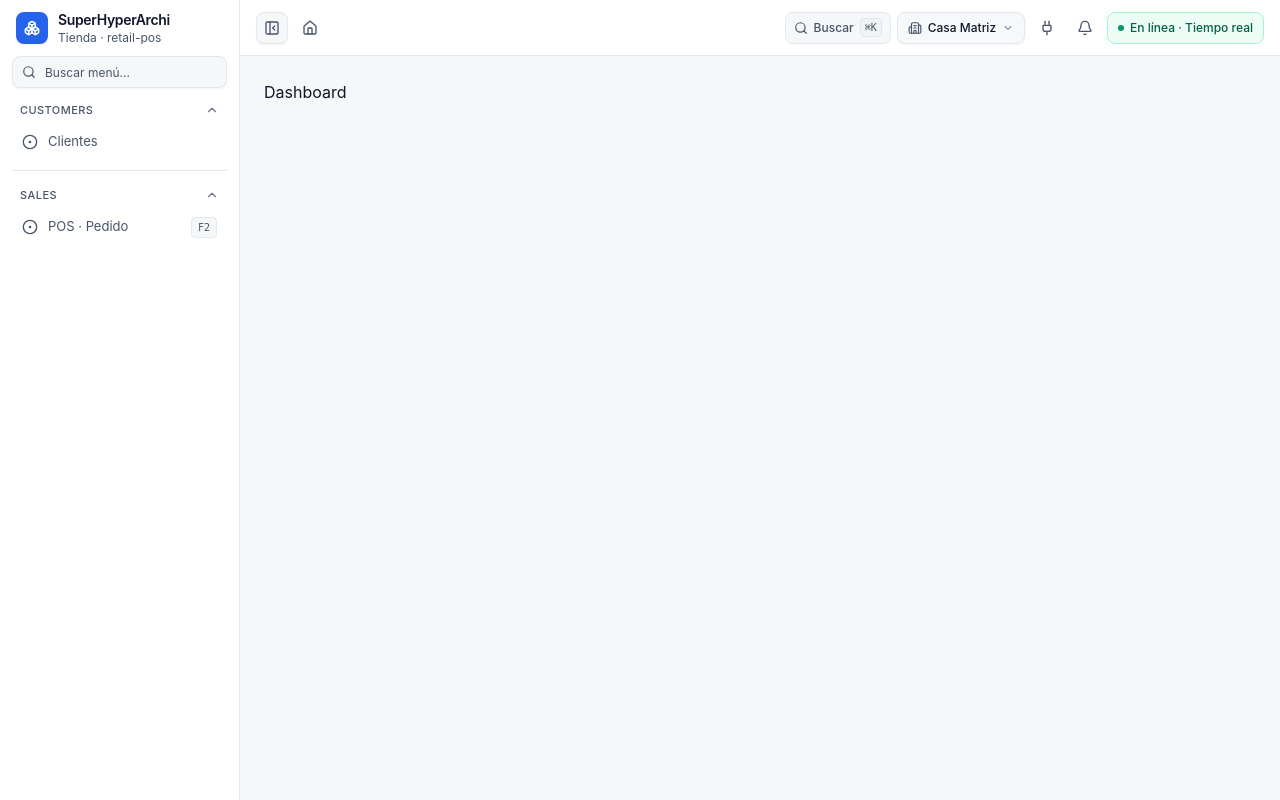
Test: @shac/ui smoke tests › groups ShacAppShell nav items into collapsible sections and filters them via sidebar search
Expected: the text "CUSTOMERS" is shown, [20,102,93,118]
Expected: the text "SALES" is shown, [20,187,57,203]
Type "POS" into the search field with placeholder "Buscar menú...".
click(120, 72); type("POS")  # box [12,56,227,88]
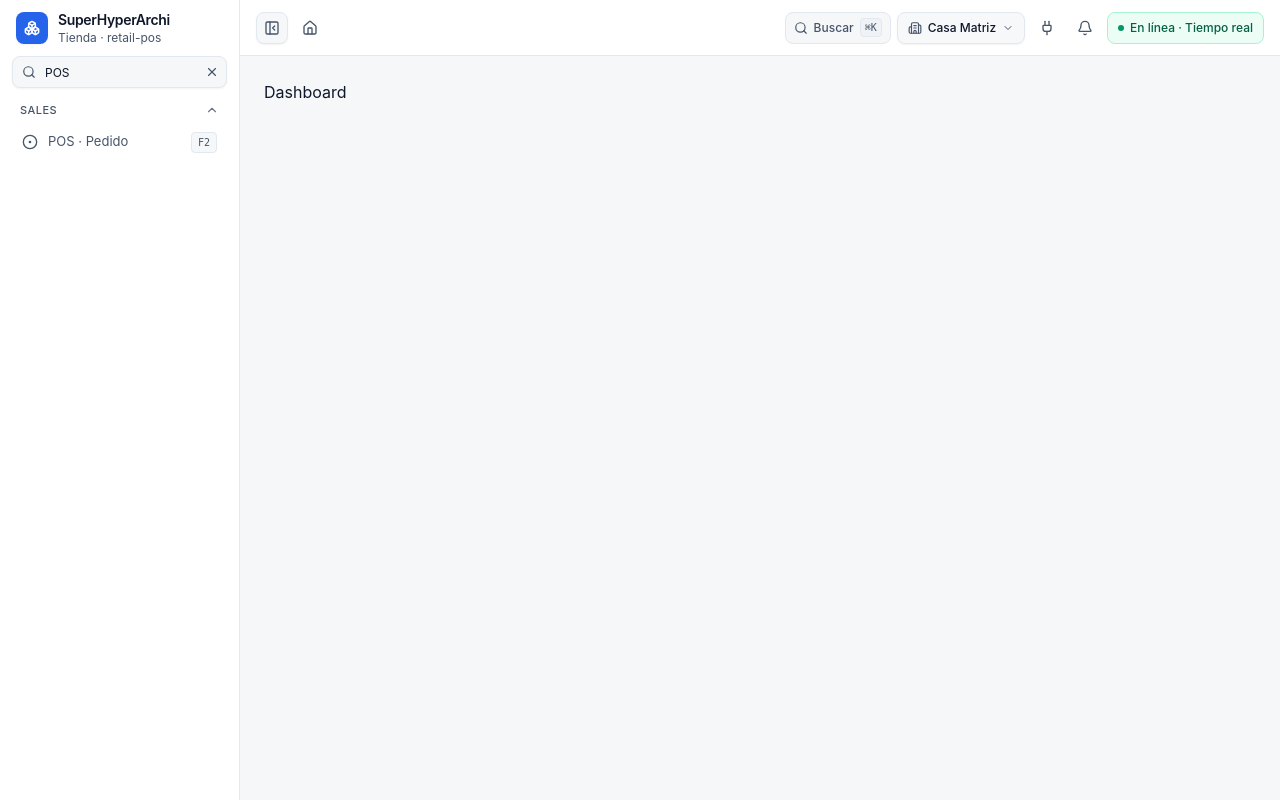
Expected: the text "POS · Pedido" is shown, [48,132,128,152]
Now the button "Clientes" is gone
